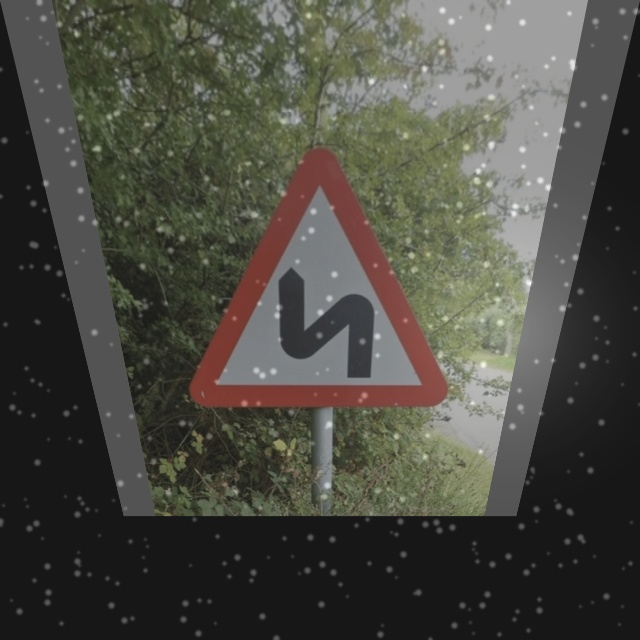Left_Reverse_Bend: (156, 148, 480, 406)
